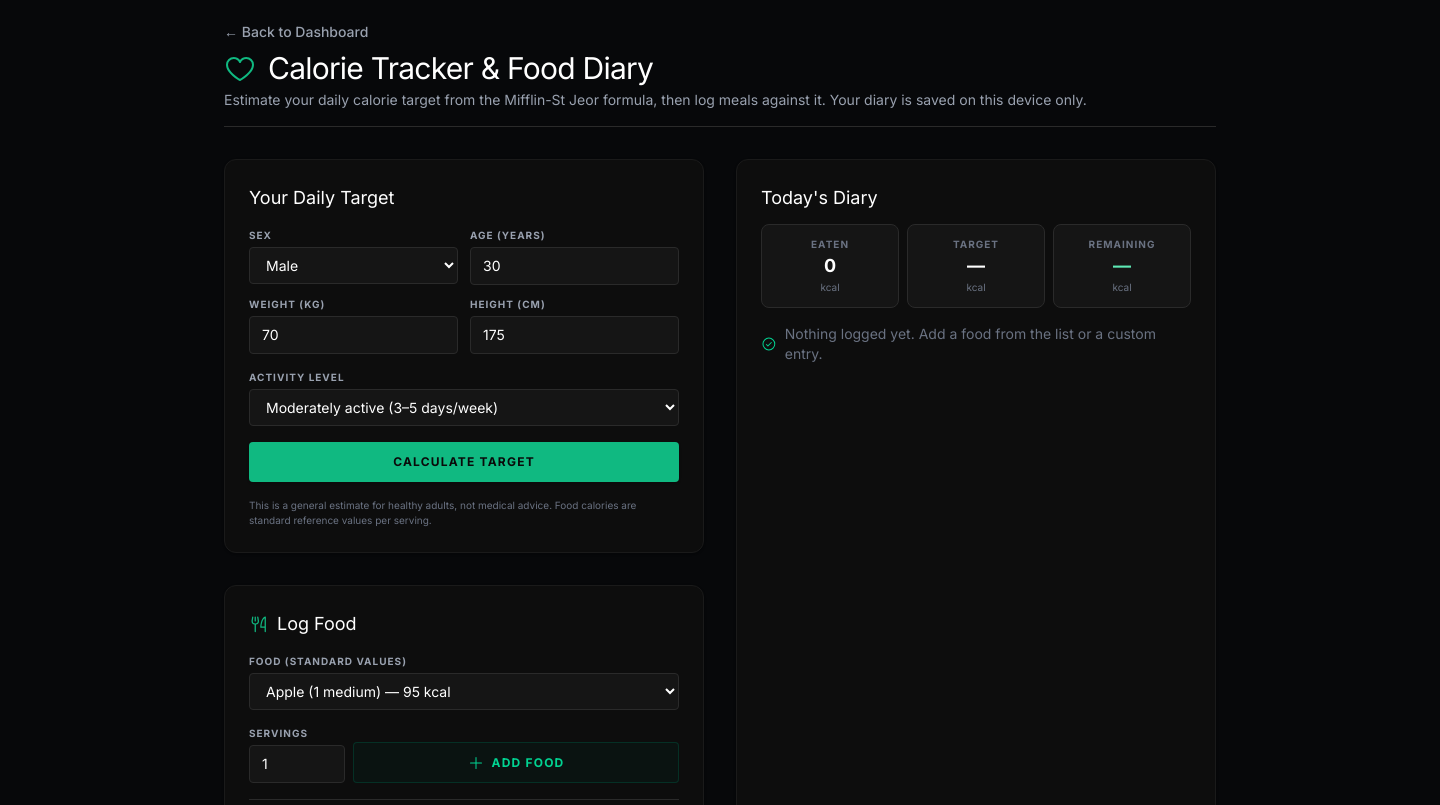
Test case: CalorieCounter › component: default profile gives BMR 1,649 and target 2,556; logging an apple totals 95 kcal
Click the button "Calculate Target".
click(464, 462)  # box [249, 442, 679, 482]
(page scrolled)
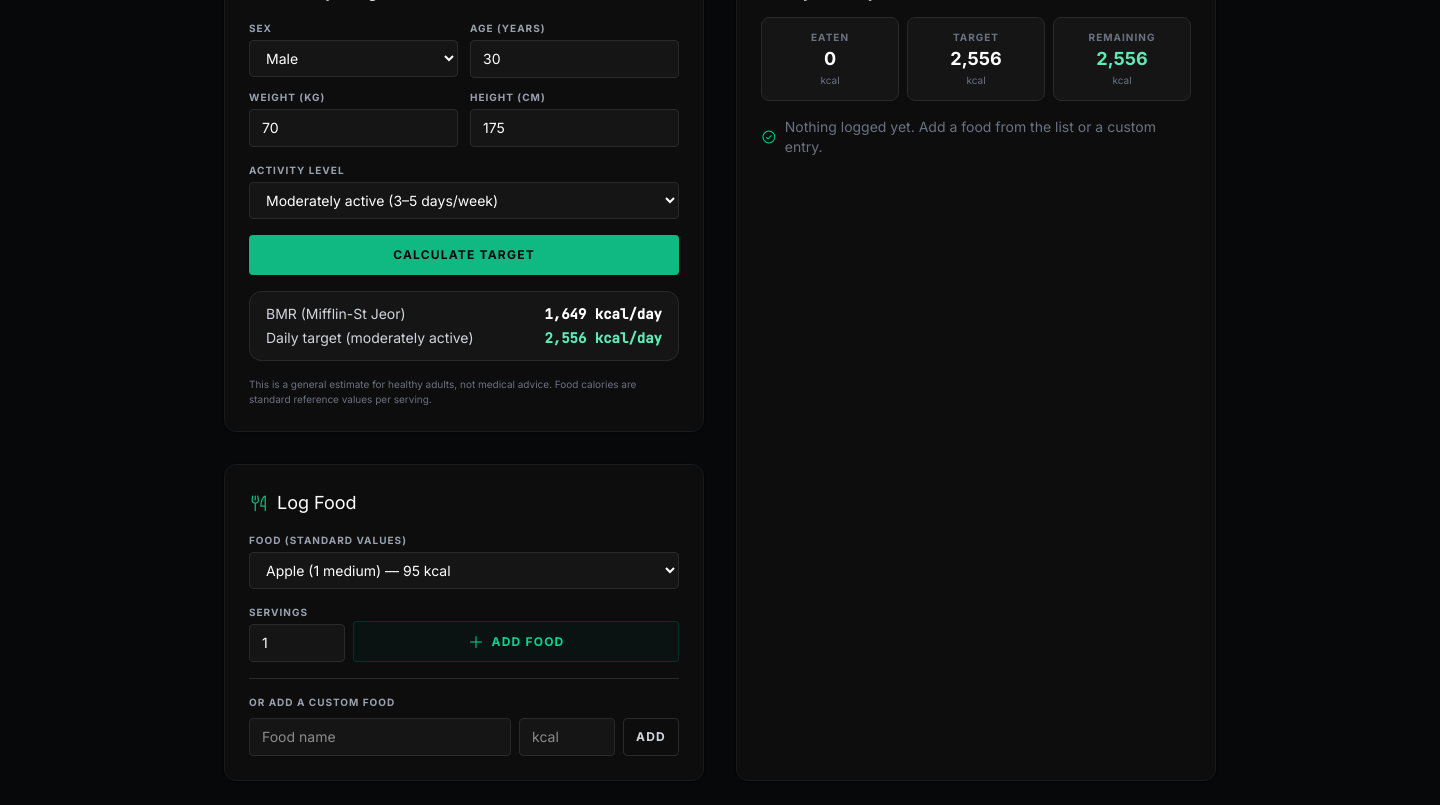
Result: the element with test id "calorie-target" shows "1,649" at [544, 305, 586, 323]
Result: the element with test id "calorie-target" shows "2,556" at [544, 329, 586, 347]
Click the button "Add Food".
click(516, 642)  # box [353, 621, 679, 662]
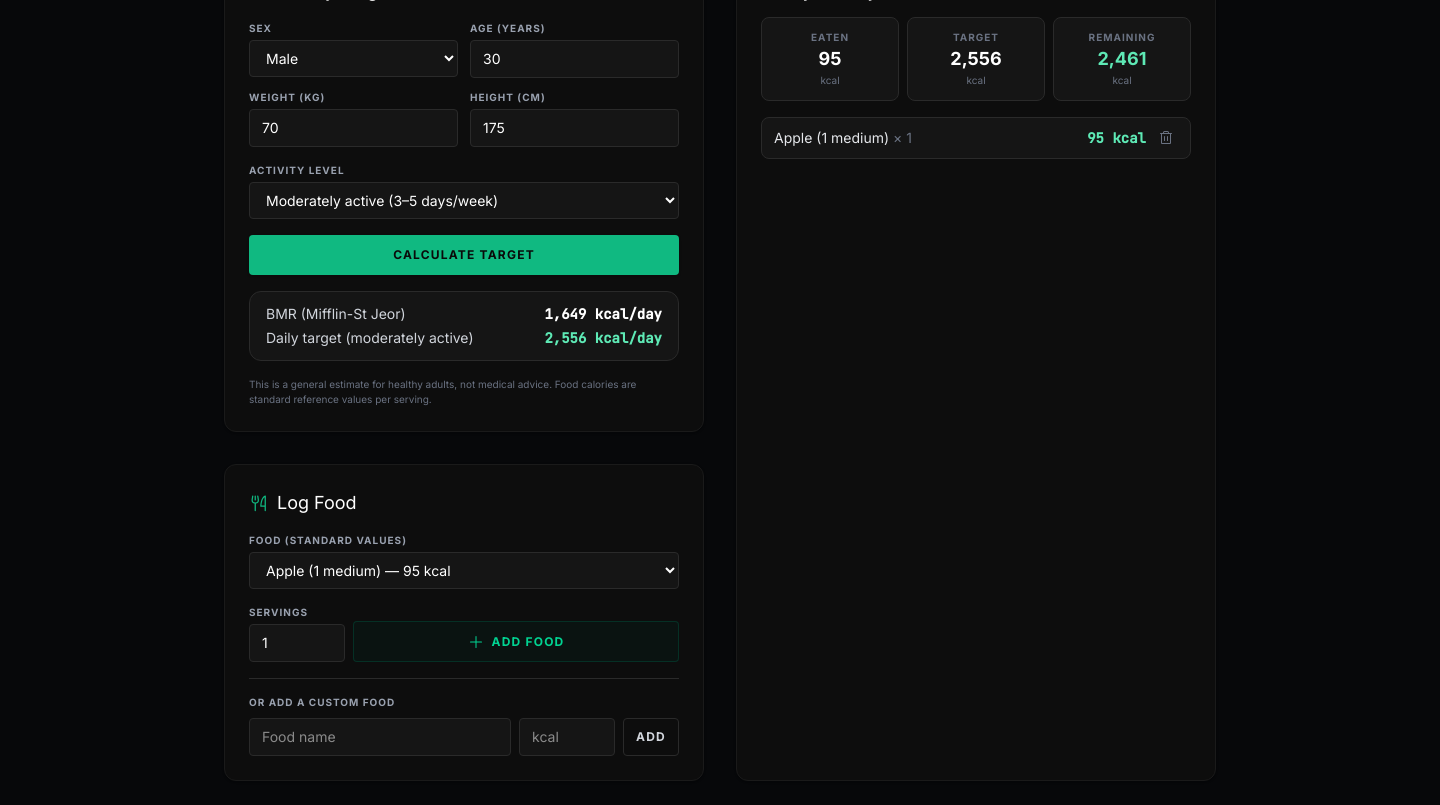
Result: the element with test id "calorie-total" shows "95" at [818, 48, 841, 69]
